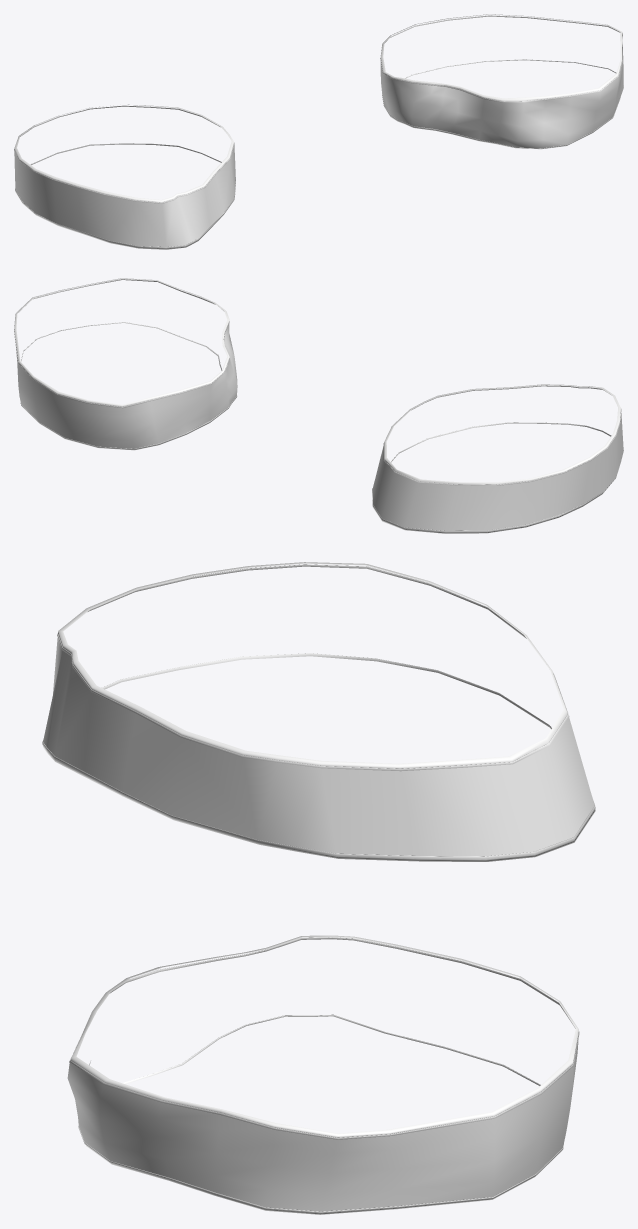
Rendered from Pants_Flic_DOWN_FULL.glb.
3 views of the same model, one above another, from view 1: azimuth 30°, elevation 25°; view 2: azimuth 150°, elevation 25°; view 3: azimuth 270°, elevation 25° (orthographic). The views are drawn at different scales.
Visible parts, largest first — view 1: Pants_Flic_DOWN_FULL.001, Pants_Main12.001; view 2: Pants_Flic_DOWN_FULL.001, Pants_Main12.001; view 3: Pants_Flic_DOWN_FULL.001, Pants_Main12.001.
Boxes of the visible parts, x1,y1,x2,y2 form: Pants_Flic_DOWN_FULL.001: [14, 14, 623, 249]; Pants_Main12.001: [14, 15, 623, 248]; Pants_Flic_DOWN_FULL.001: [14, 278, 623, 533]; Pants_Main12.001: [14, 279, 623, 532]; Pants_Flic_DOWN_FULL.001: [43, 562, 595, 1214]; Pants_Main12.001: [42, 564, 595, 1213].
Size of the model in its own units: 0.7521 by 0.0816 by 0.3094.
Materials: 2 (2 with a texture image).
